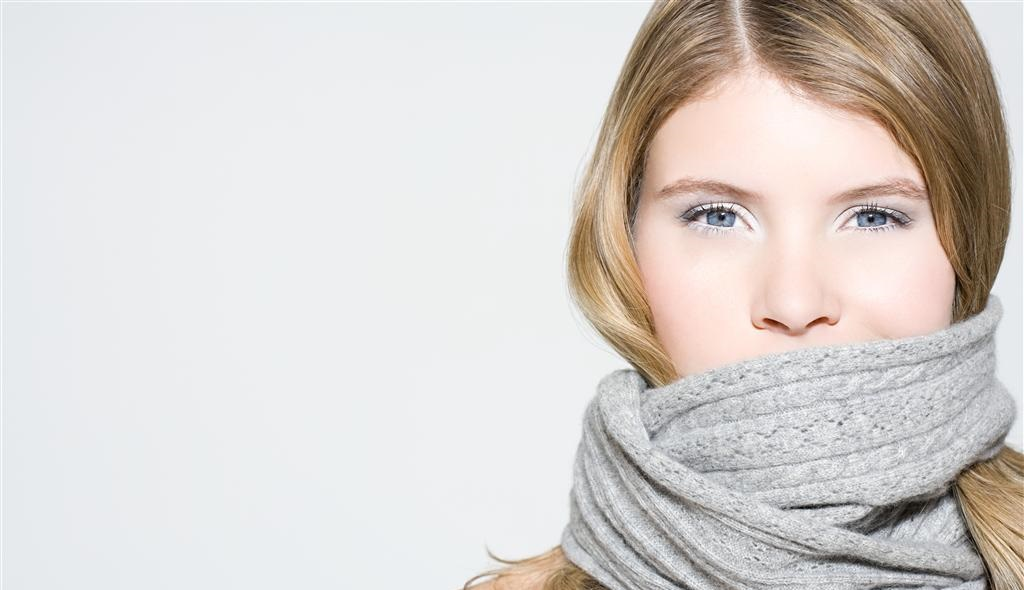face_mask: (643, 81, 958, 468)
